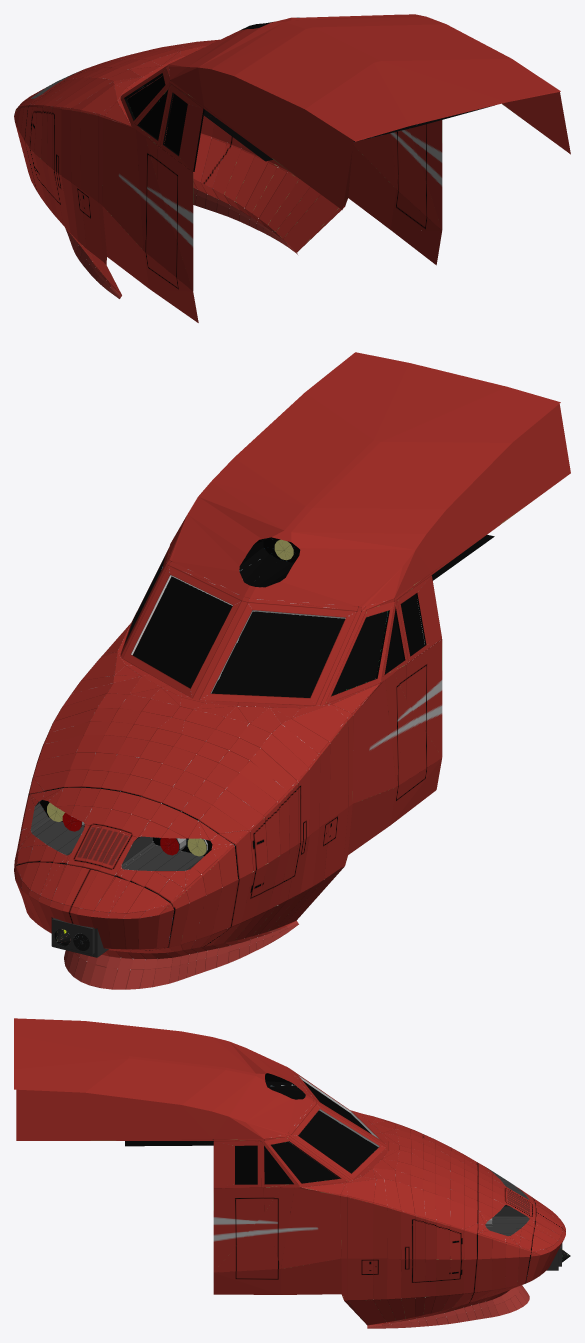
Rendered from tgv_atlantique_thalys.obj.
3 renders of one model, top to bottom at view 1: azimuth 30°, elevation 25°; view 2: azimuth 150°, elevation 25°; view 3: azimuth 270°, elevation 25°, orthographic. The views are drawn at different scales.
Parts seen in each view (by area): view 1: car1_exterior, car1_glass, car1_interior; view 2: car1_exterior, car1_glass, car1_coupler_closed, car1_coupler_open, car1_light_yellow; view 3: car1_exterior, car1_glass, car1_coupler_closed, car1_interior.
Boxes of the visible parts, x1=… form: car1_exterior: x1=14, y1=14, x2=570, y2=322; car1_glass: x1=127, y1=76, x2=187, y2=154; car1_interior: x1=124, y1=98, x2=494, y2=171; car1_exterior: x1=14, y1=352, x2=570, y2=989; car1_glass: x1=133, y1=576, x2=424, y2=697; car1_coupler_closed: x1=14, y1=862, x2=174, y2=951; car1_coupler_open: x1=40, y1=864, x2=155, y2=957; car1_light_yellow: x1=47, y1=539, x2=293, y2=856; car1_exterior: x1=14, y1=1018, x2=536, y2=1328; car1_glass: x1=235, y1=1081, x2=378, y2=1184; car1_coupler_closed: x1=526, y1=1198, x2=565, y2=1283; car1_interior: x1=125, y1=1139, x2=213, y2=1146.
Bounding box in the file's own units: 2.92 × 3.82 × 7.85.
Materials: 1 (1 with a texture image).
